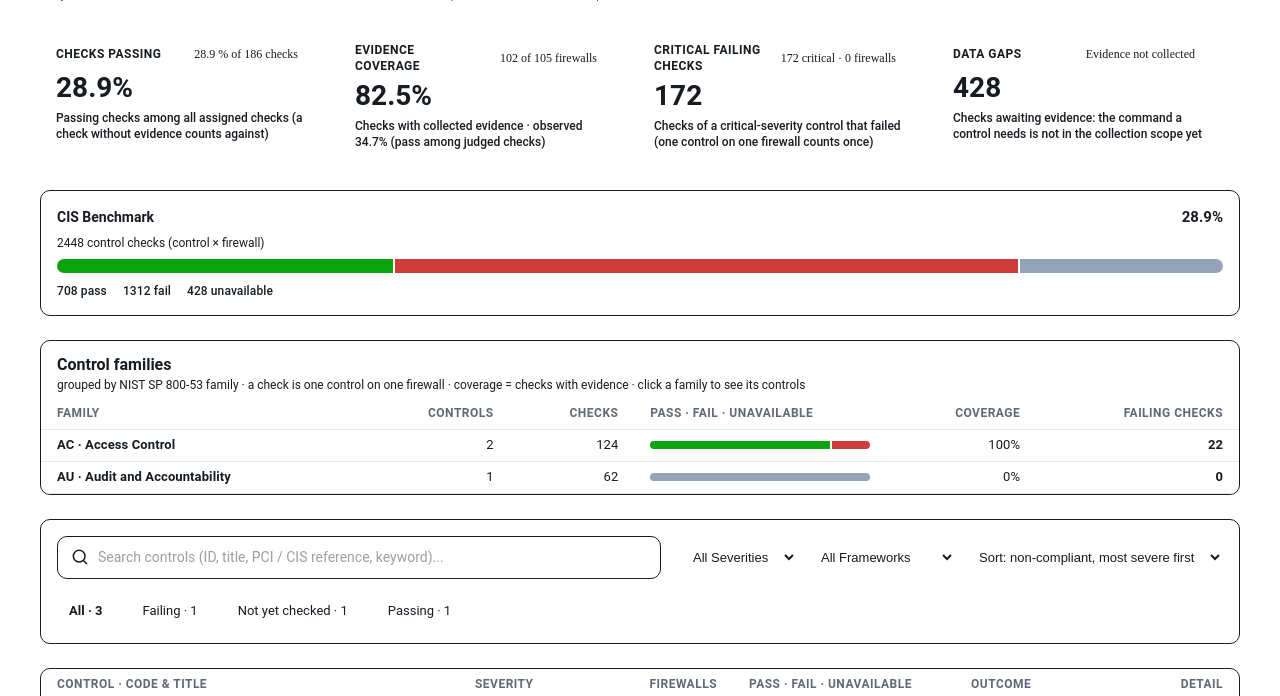
Test: control families › filters by family and keeps the URL
The width and height of the screenshot is (1280, 696).
Click the text "AC · Access Control": point(640, 445) x1=41 y1=429 x2=1239 y2=461
(page scrolled)
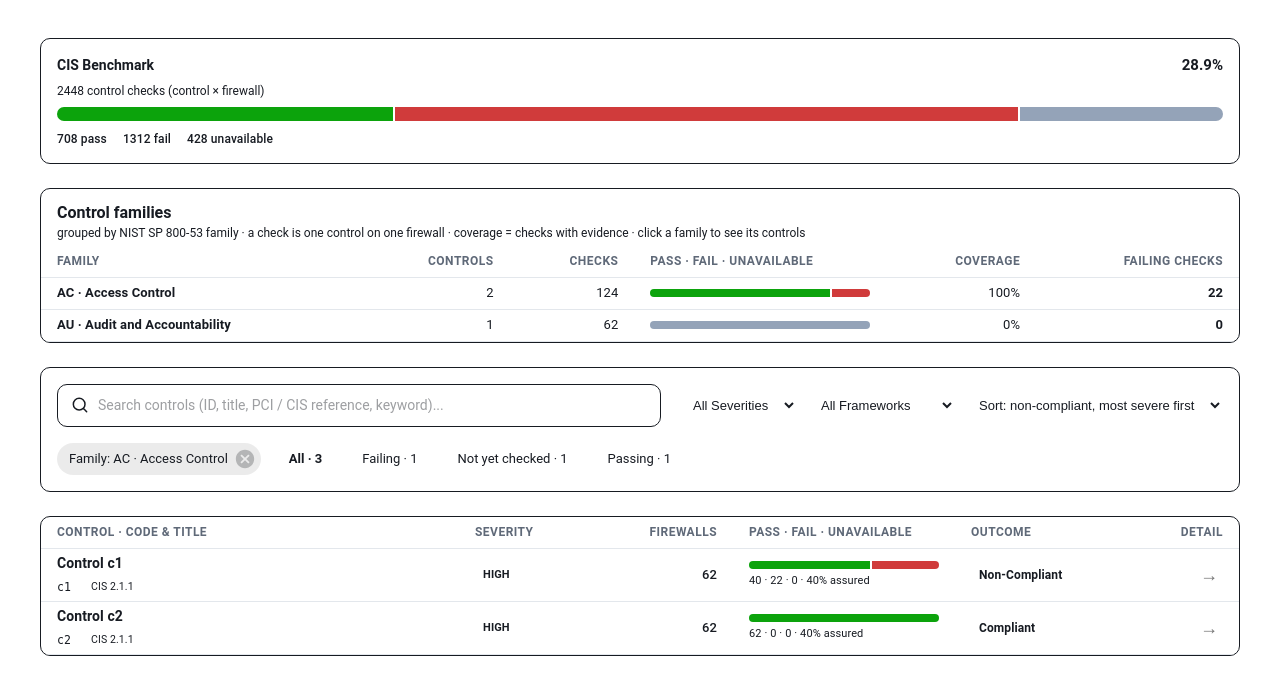
Now the text "Family: AC · Access Control" is shown, box x1=57 y1=451 x2=240 y2=466
Click the icon with test id "CancelIcon": point(245, 459) x1=234 y1=448 x2=256 y2=470
(page scrolled)
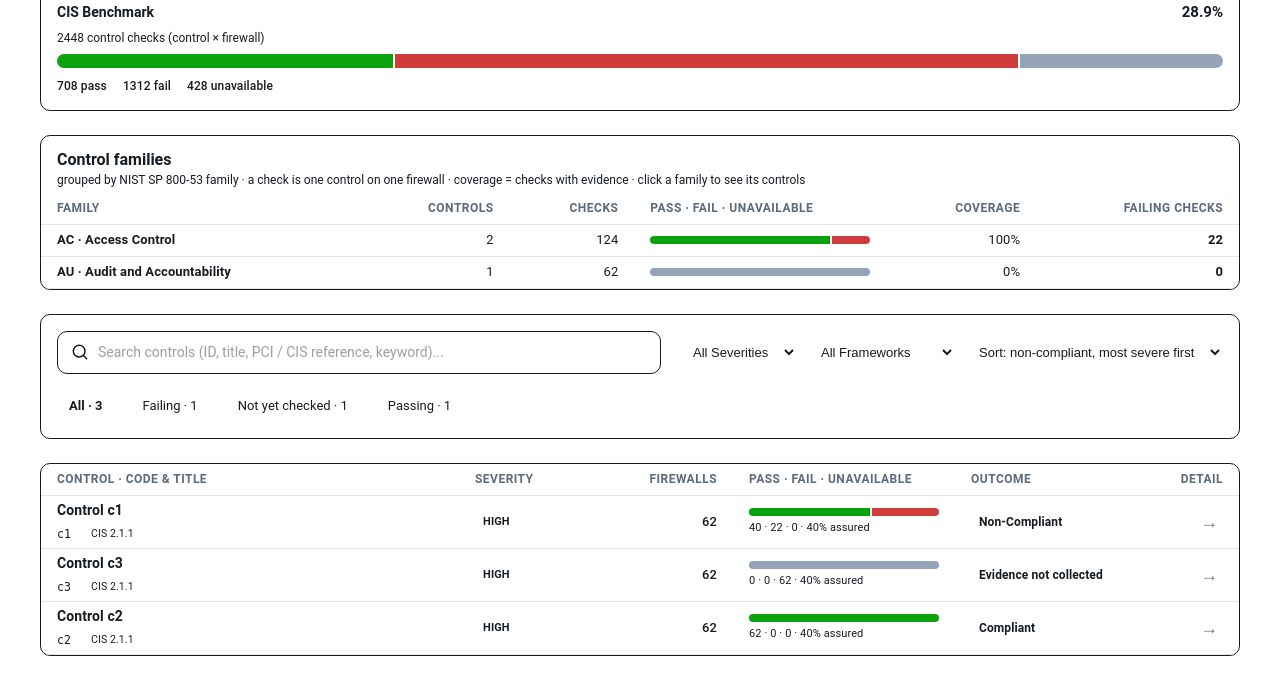
Now the text "Control c3" is shown, box x1=57 y1=555 x2=123 y2=571
